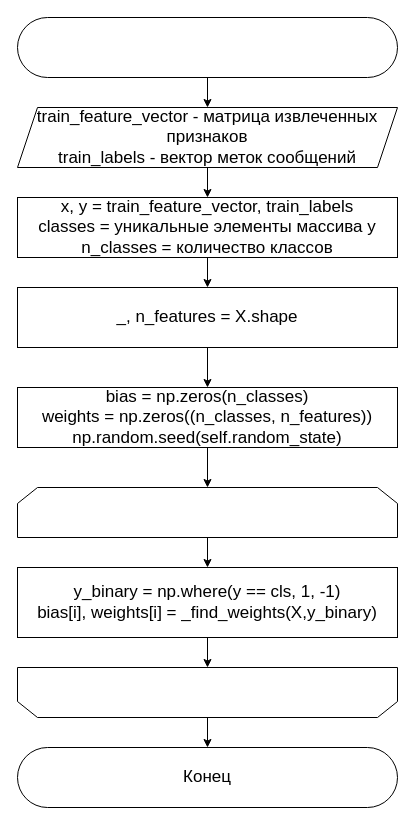
Image size: 415x825. Some labels were removed from this diagram. The shapes that lost their labels are listed below. From the top down, each one's box as (x1, y1, x2, y2) in pixels, then its label:
(16, 16, 398, 78): Начало
(16, 486, 398, 538): цикл по i, cls в enumerate(classes)
(16, 666, 398, 718): Конец цикла по i, cls
